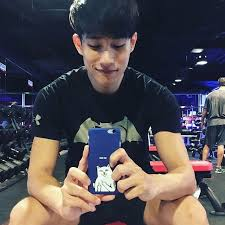people: (55, 1, 169, 225), (202, 75, 225, 173)
